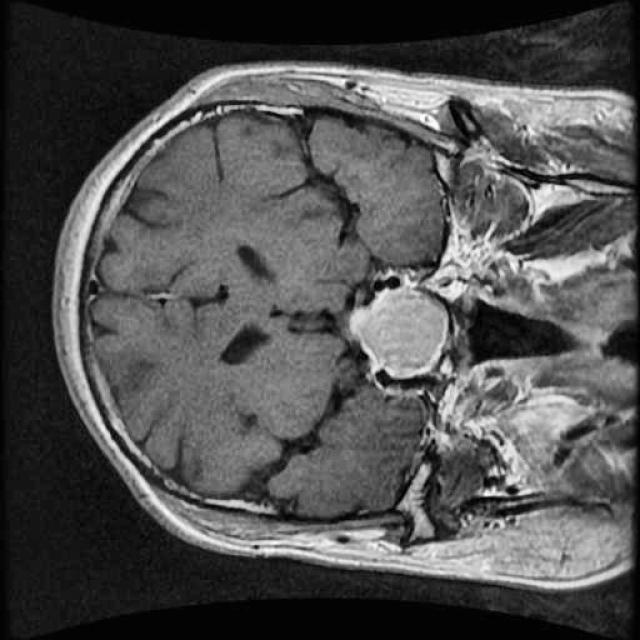Tumor: (332, 275, 462, 390)
